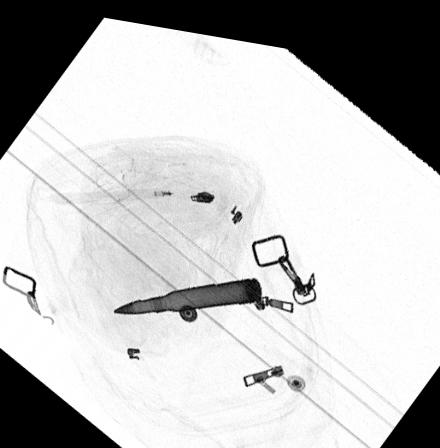Bullet: (112, 269, 261, 311)
